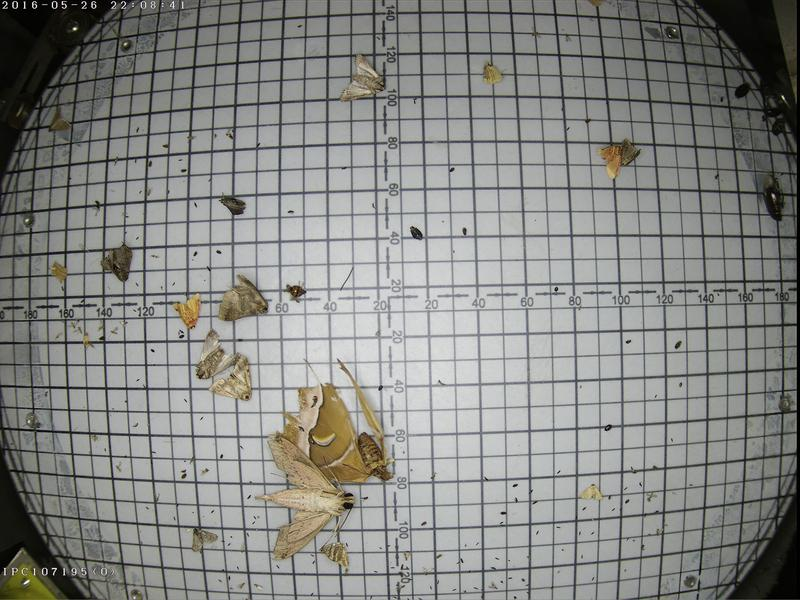Bollworm: (207, 352, 250, 404)
Spodoptera litura: (339, 49, 387, 103), (191, 328, 238, 378)
